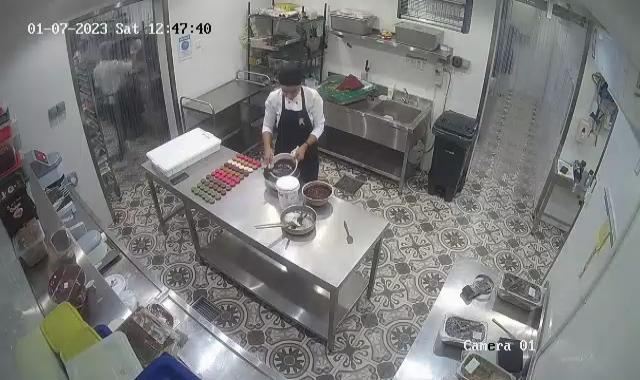no_hairnet: (279, 65, 304, 94)
